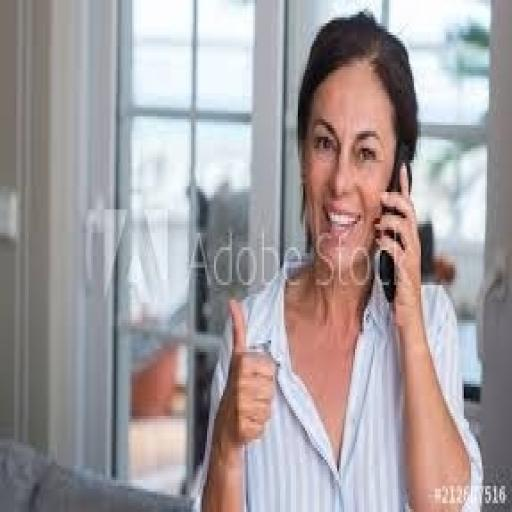texting: (196, 9, 484, 509)
